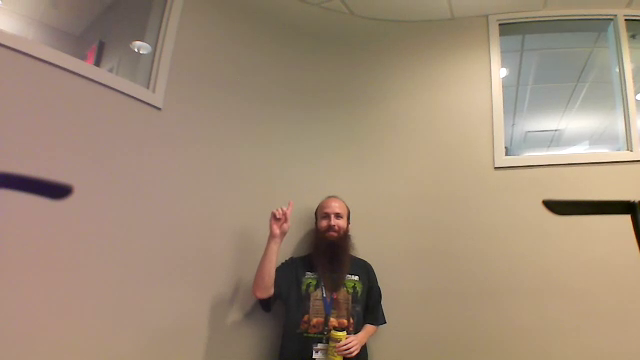up: (264, 196, 302, 243)
